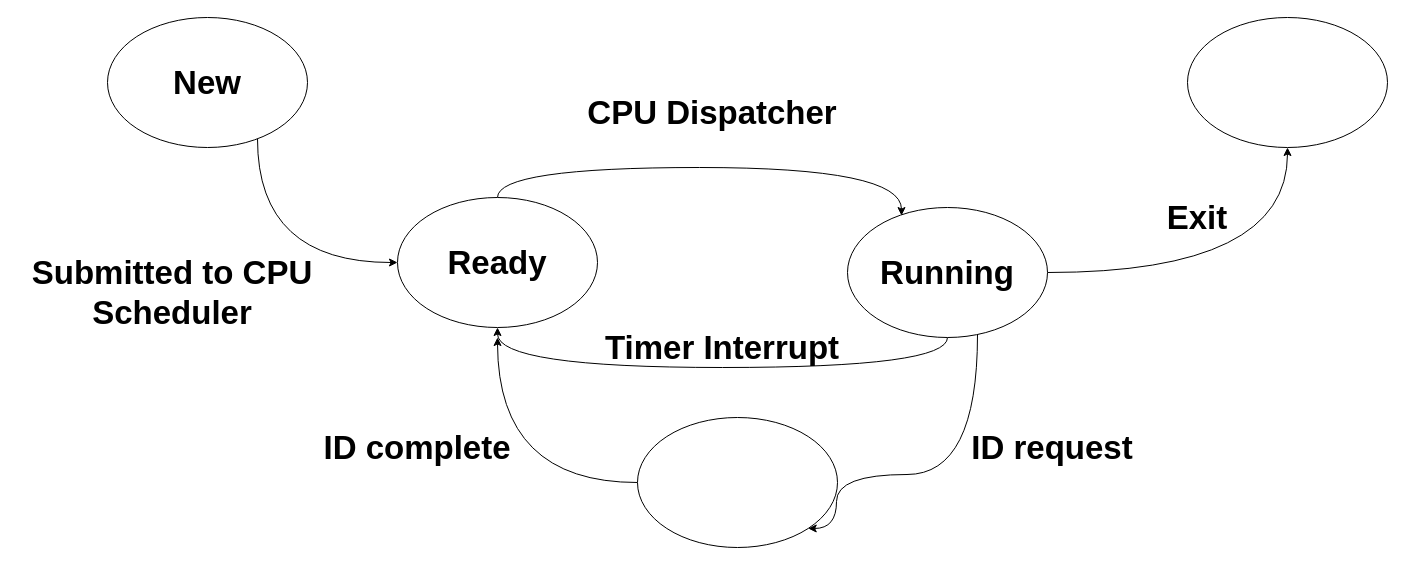
The diagram is 1405 pixels wide and 565 high, and some of its shapes have lost their labels. Here are the shapes that lost their labels. From the top down, the box of each, then its label:
(1186, 16, 1388, 148): Terminated
(636, 416, 838, 548): Waiting
